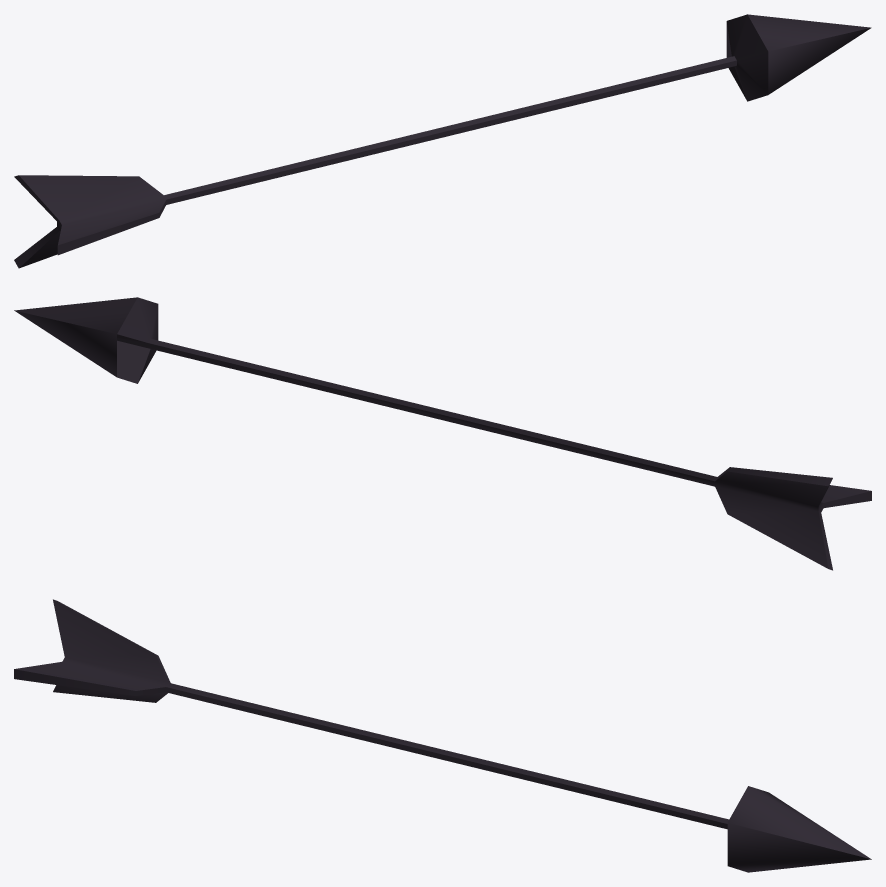
The model's file is homura_arrow_subshot.fbx.
3 renders of one model, top to bottom at view 1: azimuth 30°, elevation 25°; view 2: azimuth 150°, elevation 25°; view 3: azimuth 330°, elevation 25°, orthographic.
Parts seen in each view (by area): view 1: homura_arrow_subshot; view 2: homura_arrow_subshot; view 3: homura_arrow_subshot.
Boxes of the visible parts, <box> form: homura_arrow_subshot: <box>14,14,871,268</box>; homura_arrow_subshot: <box>14,297,871,570</box>; homura_arrow_subshot: <box>14,599,871,872</box>.
Size of the model in its own units: 226 by 24.03 by 21.26.
